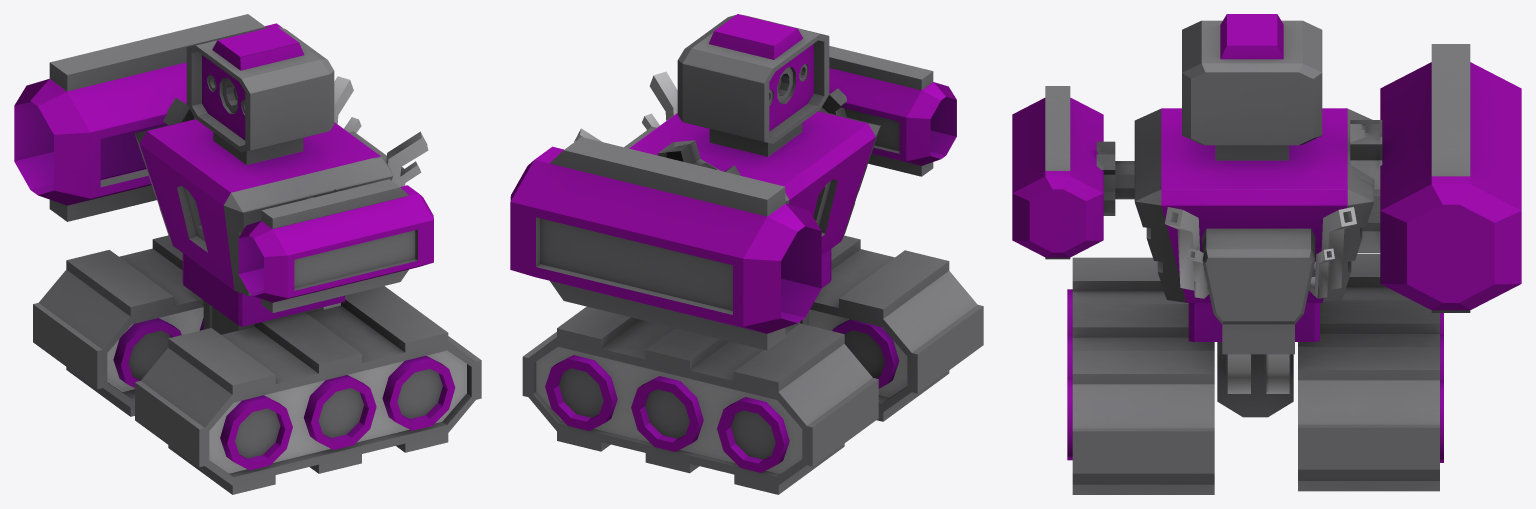
The model's file is Enemy2_Attack20.obj.
3 views of the same model, side by side, from view 1: azimuth 30°, elevation 25°; view 2: azimuth 150°, elevation 25°; view 3: azimuth 270°, elevation 25° (orthographic). The views are drawn at different scales.
Parts seen in each view (by area): view 1: Object006, Object007, Object011, Object010, Object009; view 2: Object006, Object011, Object007, Object010, Object009; view 3: Object006, Object007, Object011, Object010, Object009, Object008.
Boxes of the visible parts, <box> form: Object006: <box>33,179,481,494</box>; Object007: <box>134,26,392,334</box>; Object011: <box>14,14,282,221</box>; Object010: <box>323,76,428,309</box>; Object009: <box>163,97,195,124</box>; Object006: <box>522,46,983,494</box>; Object011: <box>510,137,821,350</box>; Object007: <box>629,14,880,330</box>; Object010: <box>574,71,677,148</box>; Object009: <box>658,140,740,175</box>; Object006: <box>1012,86,1443,494</box>; Object007: <box>1134,14,1374,417</box>; Object011: <box>1380,44,1521,312</box>; Object010: <box>1165,207,1356,393</box>; Object009: <box>1350,120,1382,252</box>; Object008: <box>1096,141,1134,215</box>.
Size of the model in its own units: 87.04 by 108 by 123.
